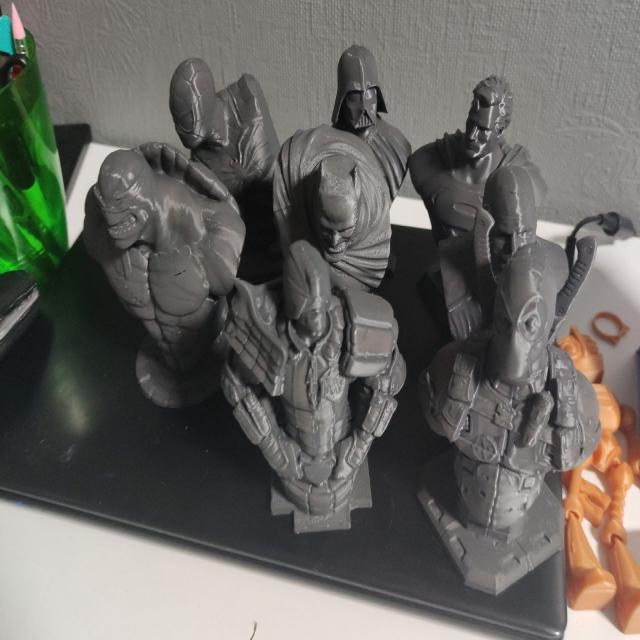Without deffect: (70, 36, 605, 612)
